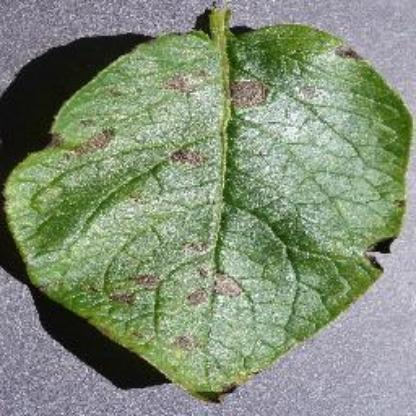Early-Blight: (7, 0, 415, 392)
